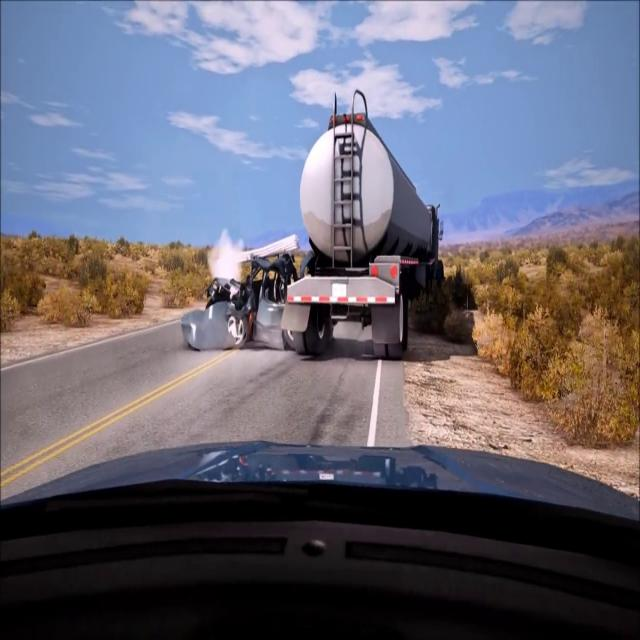accident: (193, 238, 415, 357)
